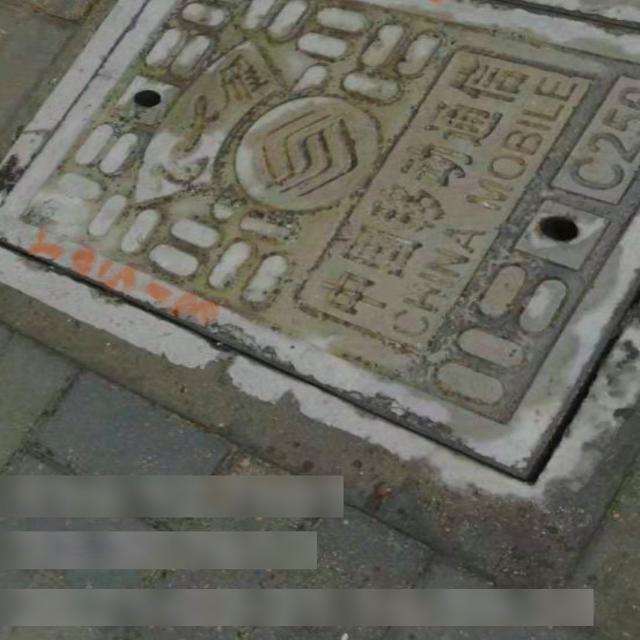good: (0, 0, 640, 505)
